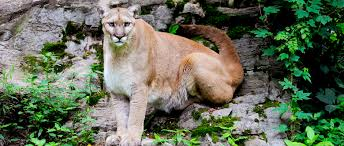Mountain Lion: (94, 3, 241, 113)
